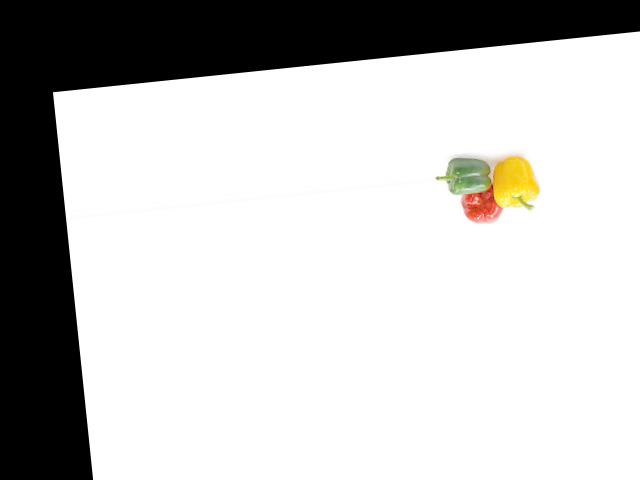bell_pepper: (438, 153, 503, 202)
